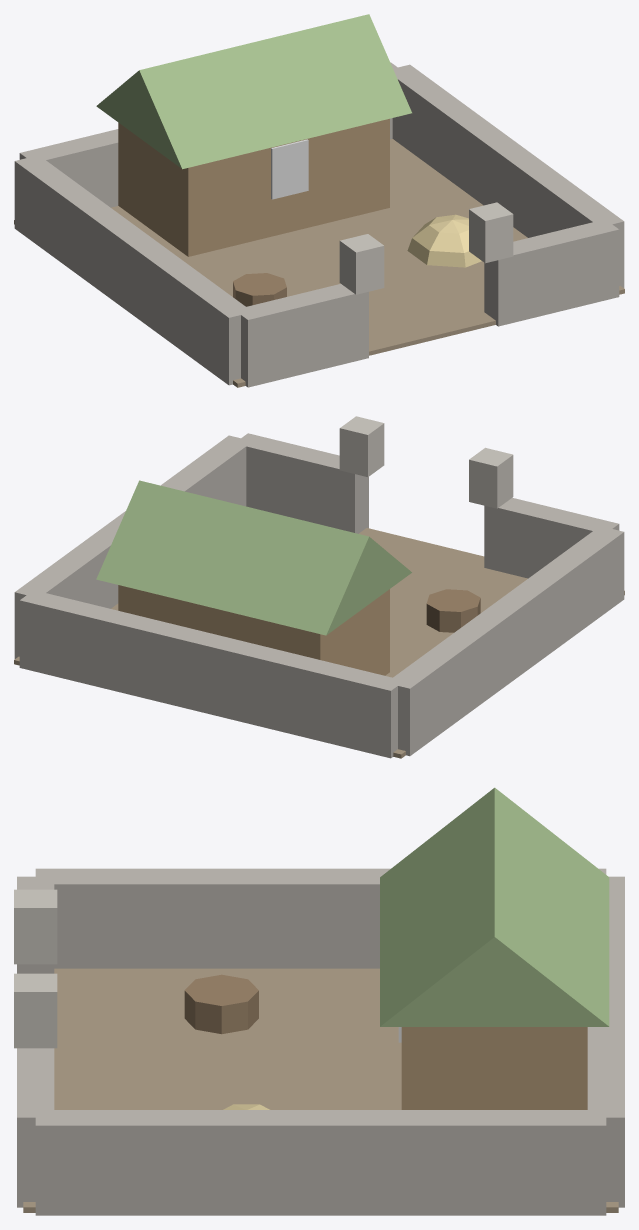
3 views of the same model, one above another, from view 1: azimuth 30°, elevation 25°; view 2: azimuth 150°, elevation 25°; view 3: azimuth 270°, elevation 25° (orthographic). The views are drawn at different scales.
Visible parts, largest first — view 1: body; view 2: body; view 3: body.
Part boxes in pixels (bbox=[...]): body: bbox=[14, 14, 624, 387]; body: bbox=[14, 416, 624, 758]; body: bbox=[14, 787, 624, 1215].
Bounding box in the file's own units: 9.8 × 4 × 9.85.
